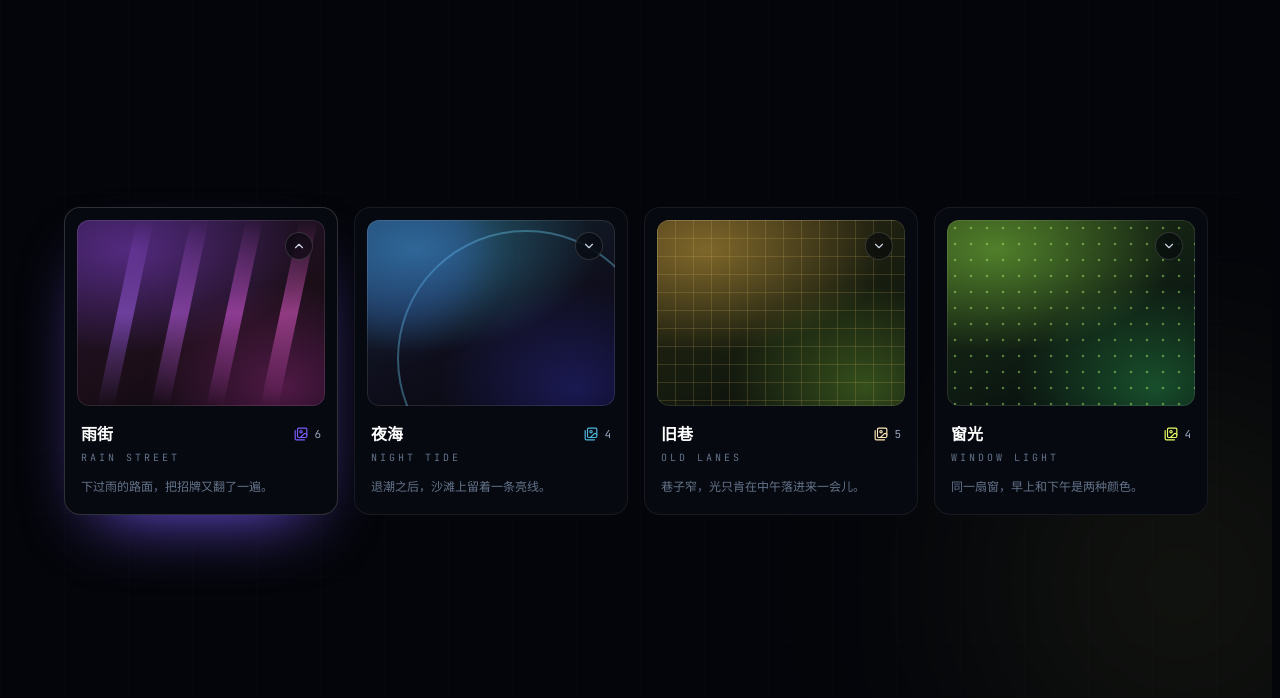
it: 神谕 · 页面 › 默认展开第一册，点另一册换内容，再点收起
This screenshot has width=1280, height=698.
(page scrolled)
Click the button "夜海 Night Tide 4 退潮之后，沙滩上留着一条亮线。" at (491, 361), box left=354, top=207, right=628, bottom=515
(page scrolled)
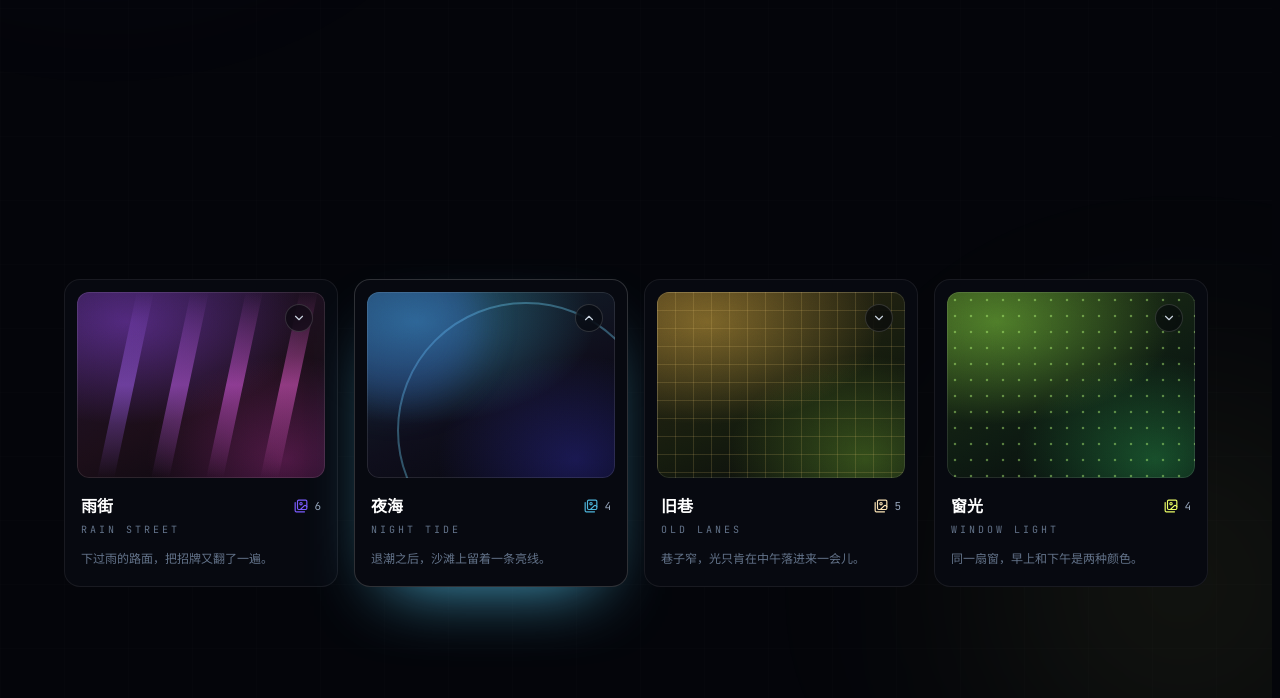
Click the button "夜海 Night Tide 4 退潮之后，沙滩上留着一条亮线。" at (491, 433), box left=354, top=279, right=628, bottom=587
(page scrolled)
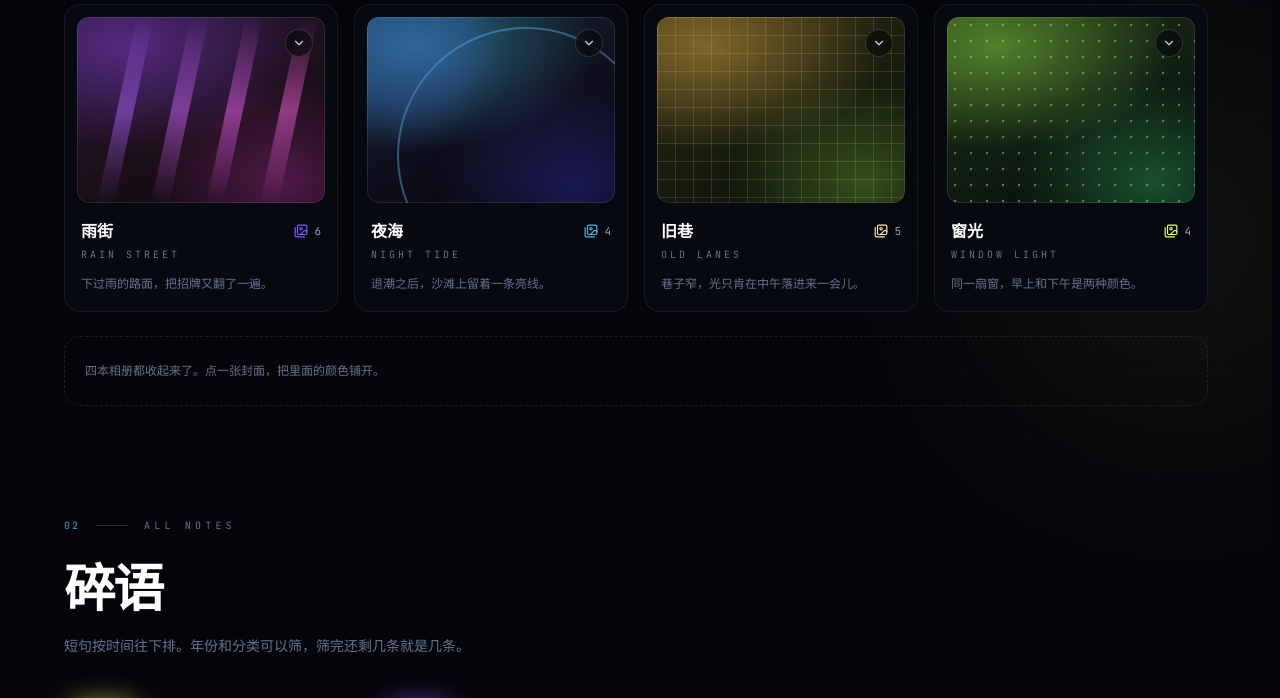
Result: the text "四本相册都收起来了。点一张封面，把里面的颜色铺开。" is shown at left=64, top=336, right=1208, bottom=406
